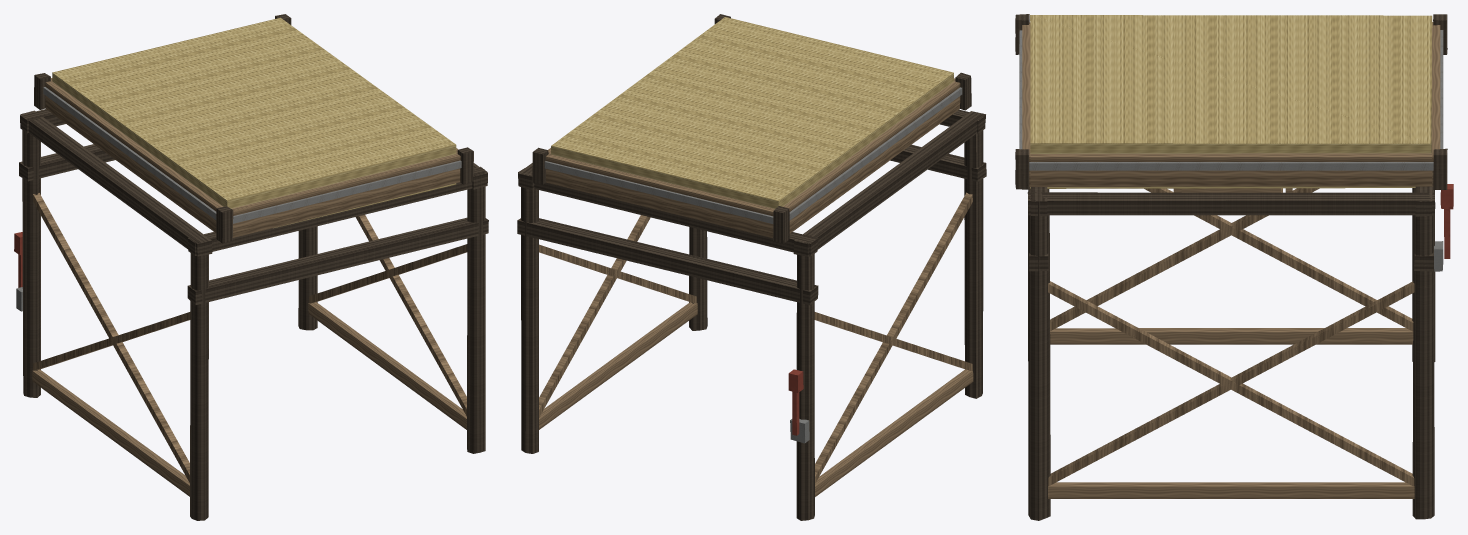
The model's file is field_bale_chute.glb.
3 renders of one model, left to right at view 1: azimuth 30°, elevation 25°; view 2: azimuth 150°, elevation 25°; view 3: azimuth 270°, elevation 25°, orthographic. The views are drawn at different scales.
Visible parts, largest first — view 1: FieldBaleChute, HayFill; view 2: FieldBaleChute, HayFill, Lever; view 3: FieldBaleChute, HayFill, Lever.
Part boxes in pixels (left/top/right/bottom): FieldBaleChute: left=16, top=14, right=488, bottom=520; HayFill: left=52, top=17, right=456, bottom=228; FieldBaleChute: left=517, top=14, right=986, bottom=520; HayFill: left=551, top=17, right=953, bottom=208; Lever: left=788, top=369, right=803, bottom=435; FieldBaleChute: left=1015, top=14, right=1447, bottom=520; HayFill: left=1030, top=15, right=1432, bottom=188; Lever: left=1440, top=184, right=1453, bottom=258.
Bounding box in the file's own units: 3.96 × 4.04 × 4.47.
Materials: 5 (5 with a texture image).
